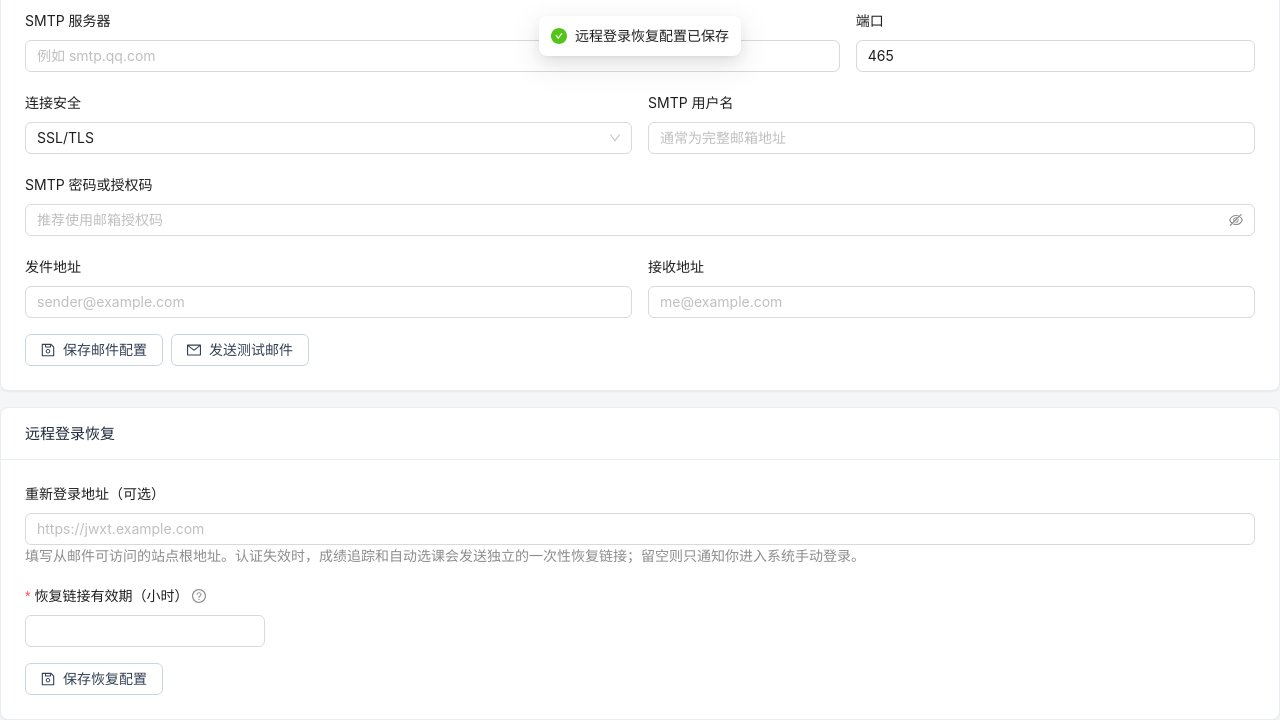
Test: recovery link lifetime settings › does not submit an empty duration
(page scrolled)
Clear the number field with id "link_ttl_hours". click: (145, 631)
box: top-left (26, 616), bottom-right (264, 646)
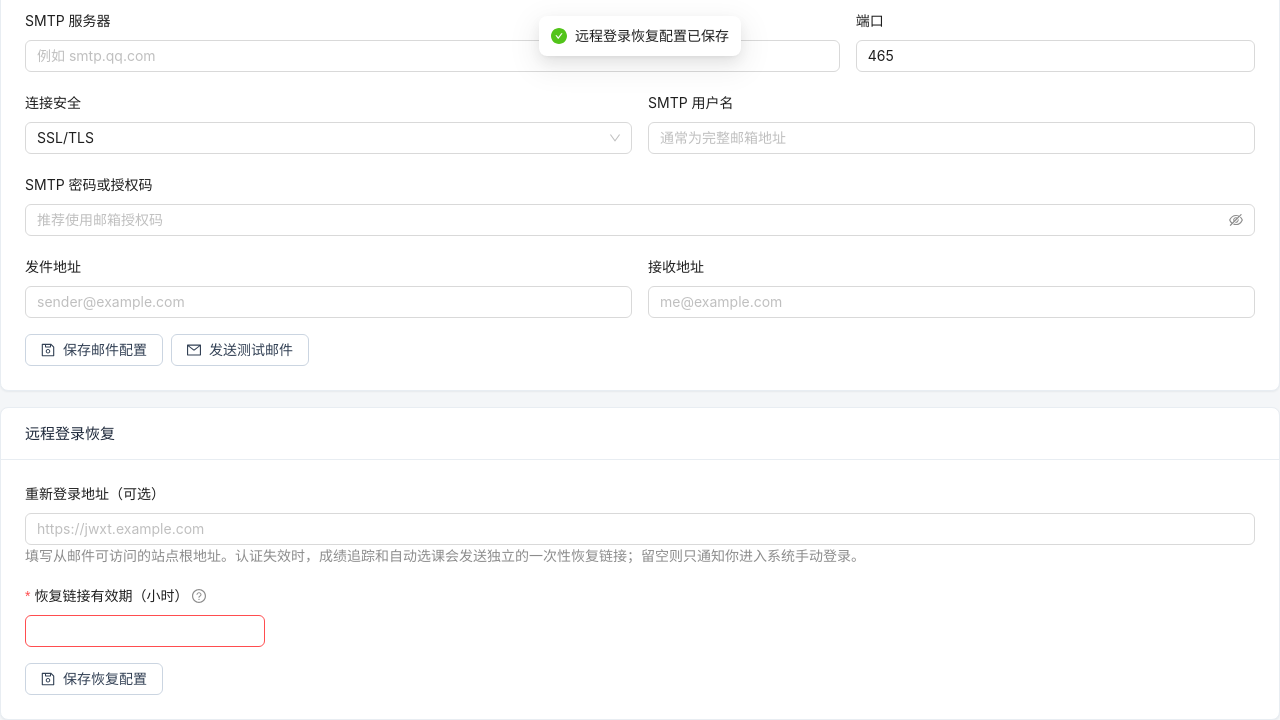
Submit the form with id "link_ttl_hours", box top-left (25, 483), bottom-right (1255, 695)
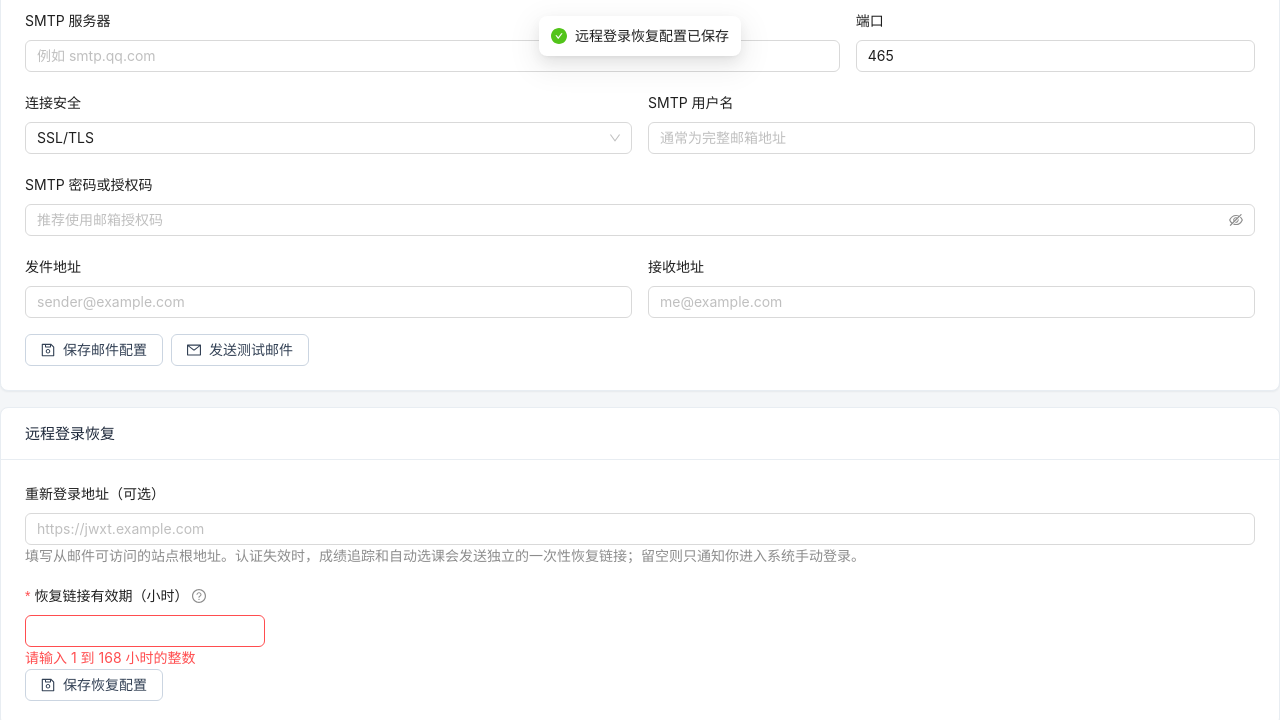
Now the text "请输入 1 到 168 小时的整数" is shown, box top-left (25, 649), bottom-right (196, 666)
